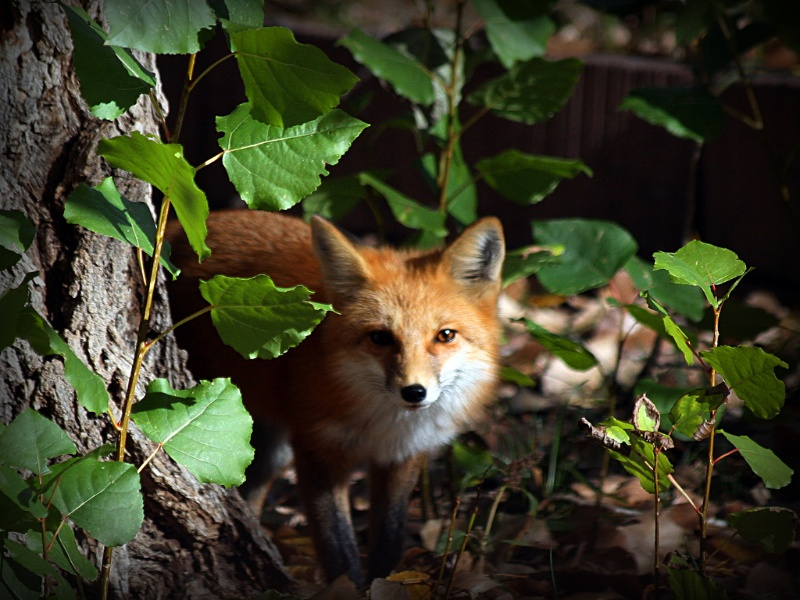fox: (147, 208, 512, 591)
